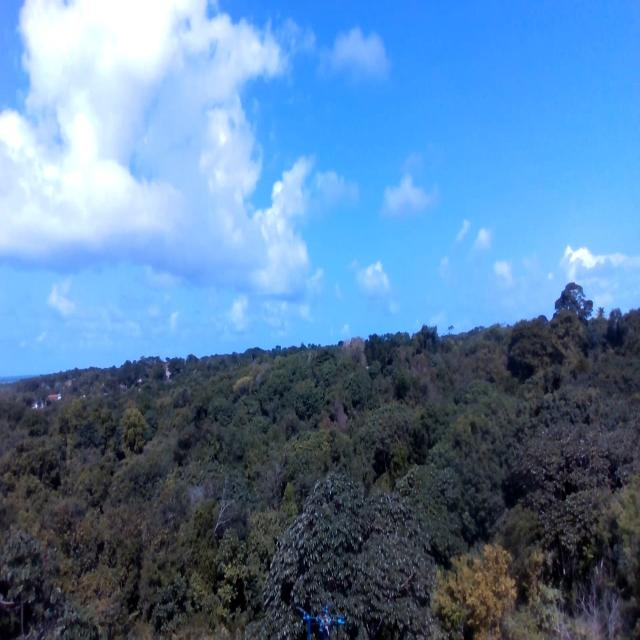-uav-: (296, 597, 346, 640)
